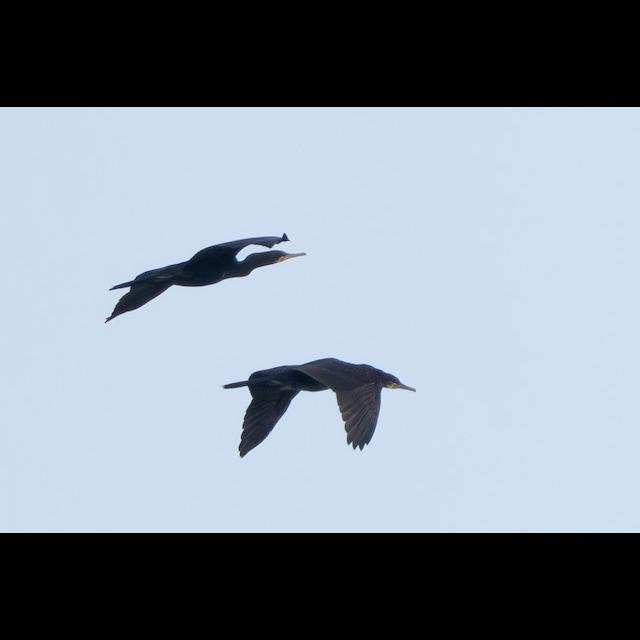cormorant: (102, 230, 312, 324), (222, 353, 416, 453)
